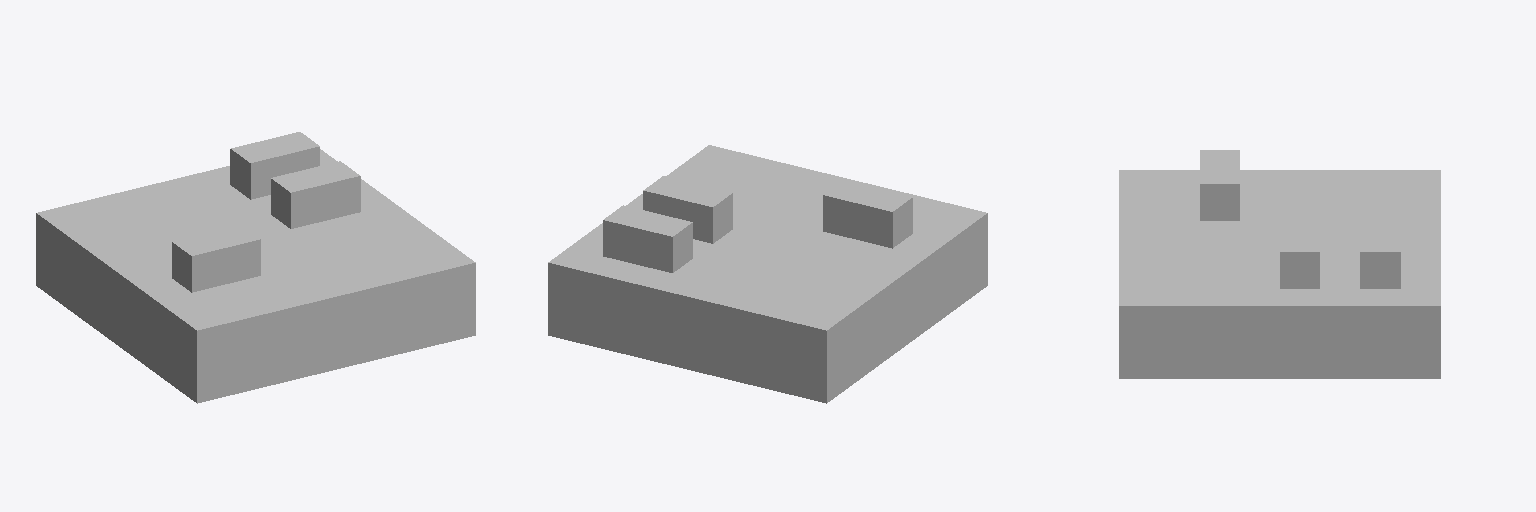
The model's file is parkingWithCars.obj.
3 renders of one model, left to right at view 1: azimuth 30°, elevation 25°; view 2: azimuth 150°, elevation 25°; view 3: azimuth 270°, elevation 25°, orthographic.
Parts seen in each view (by area): view 1: object 1; view 2: object 1; view 3: object 1.
Boxes of the visible parts, box(x1,y1,x2,y2) form: object 1: box(36, 132, 475, 403); object 1: box(548, 145, 987, 403); object 1: box(1119, 150, 1440, 378).
Bounding box in the file's own units: 0.8 × 0.3 × 0.8.